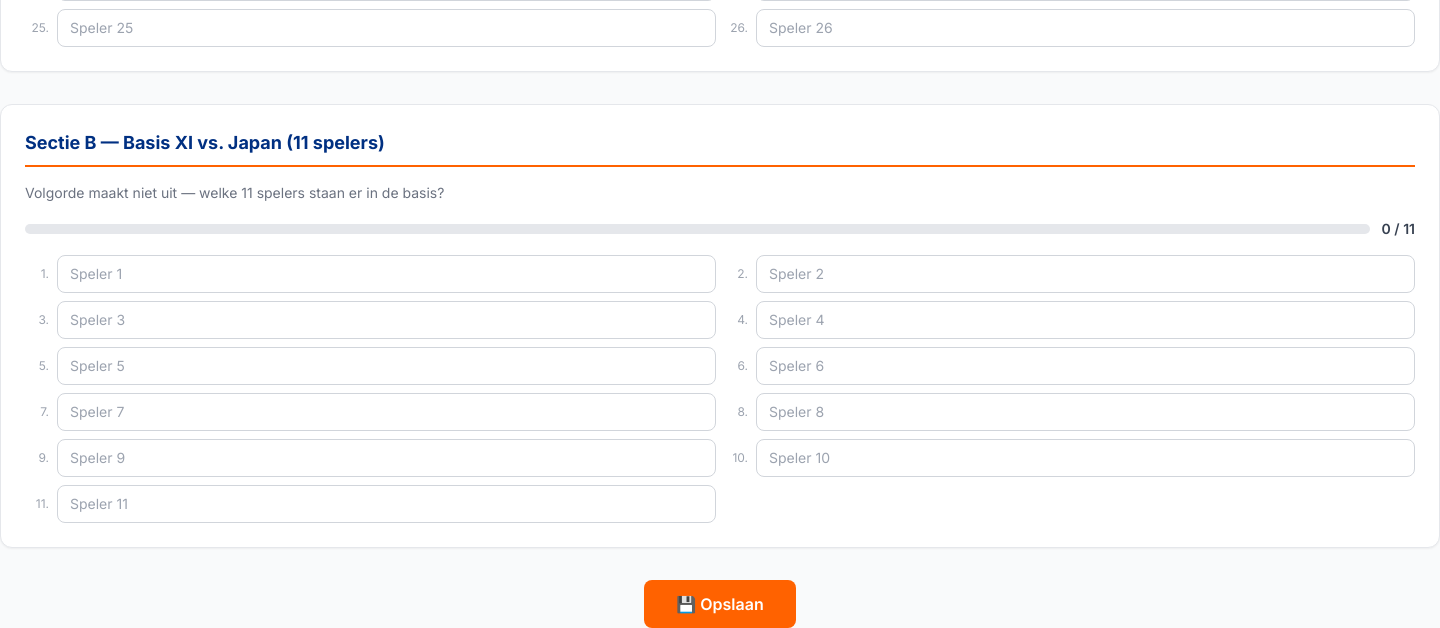
it: PredictieForm › Opslaan shows "Voorspelling opgeslagen" on success
The width and height of the screenshot is (1440, 628).
(page scrolled)
Step 1. Click the button "💾 Opslaan" → (720, 604), box [644,580,796,627]
(page scrolled)
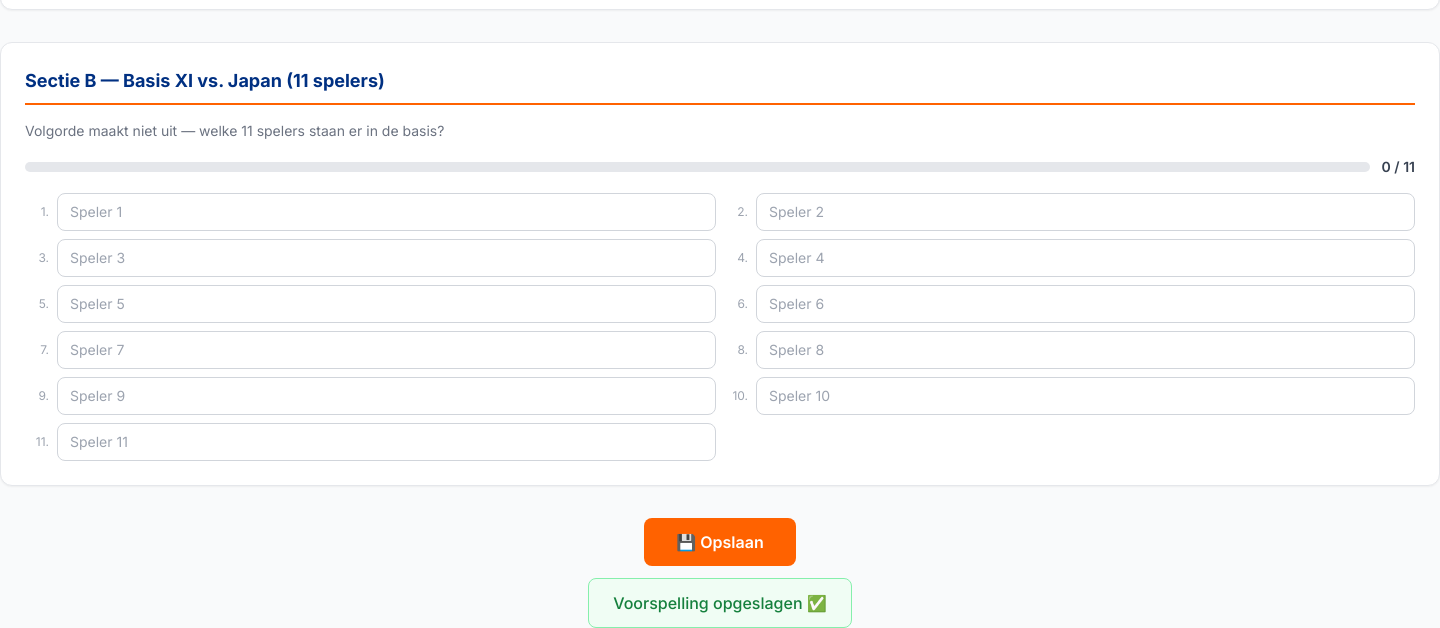
Result: the text "Voorspelling opgeslagen ✅" is shown at [588,578,852,627]
